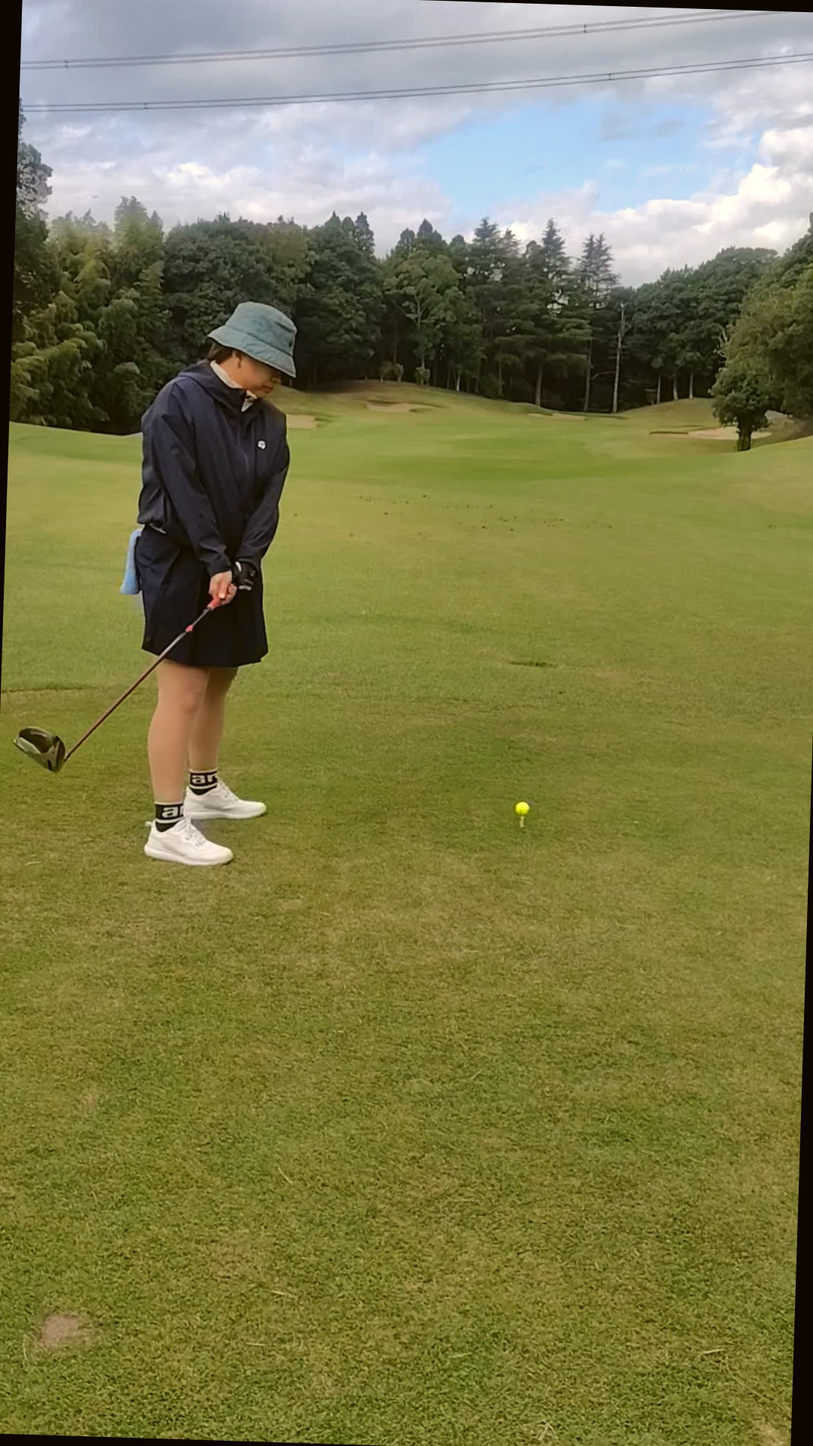clubhead: (0, 698, 194, 859)
